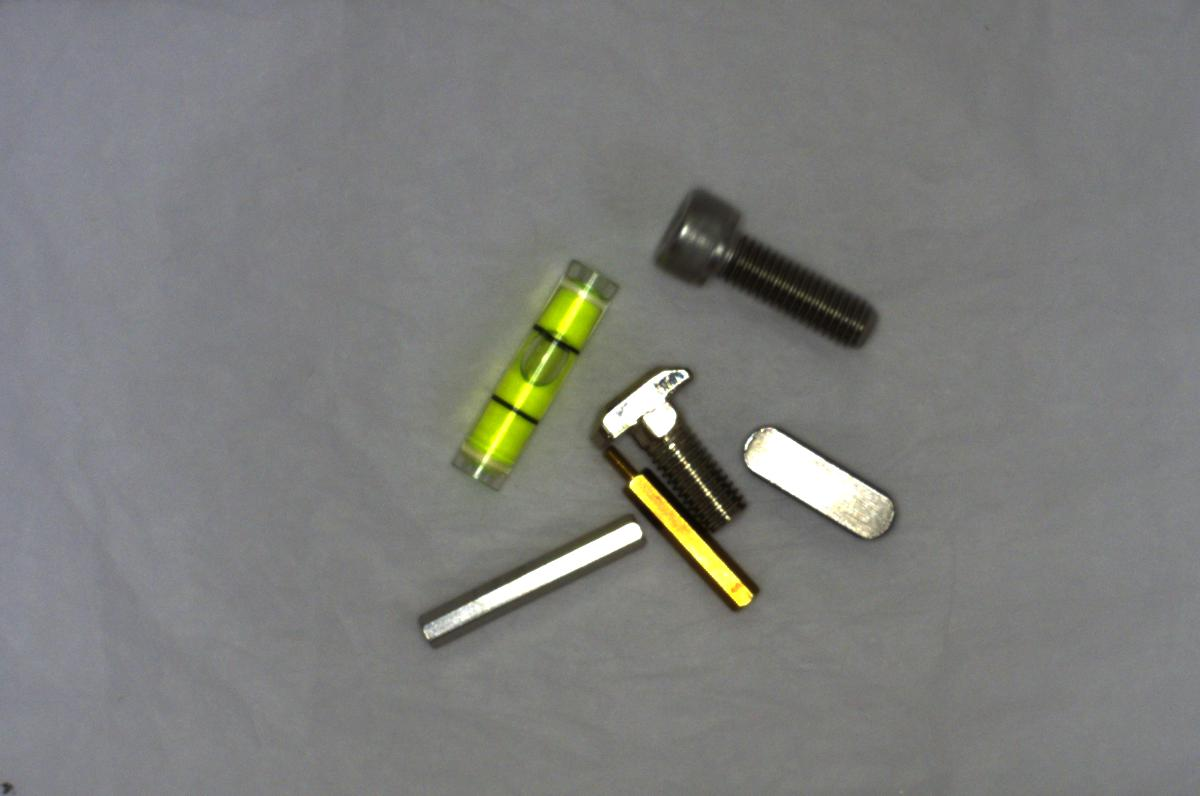Double hexagonal column: (410, 510, 650, 654)
Hexagon pillar: (589, 437, 765, 615)
Hexagon screw: (644, 177, 884, 349)
Horizontal bubble: (425, 248, 623, 495)
Keybar: (741, 421, 902, 546)
T-shaped screw: (588, 360, 751, 535)
